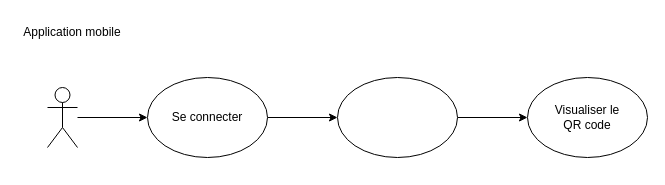
The diagram is 665 pixels wide and 185 high, and some of its shapes have lost their labels. Each missing label, with the centre of its shape:
Visionner les séances réservées: the point at 397,117
Visiteur: the point at 62,117
